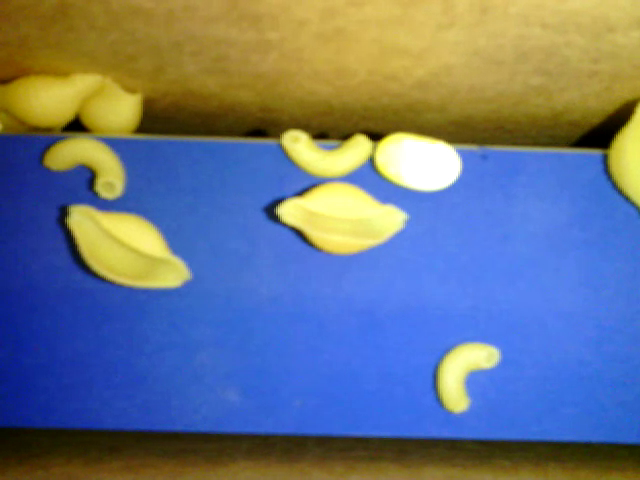elbow: (44, 133, 125, 198), (433, 341, 498, 415), (280, 126, 373, 177)
shell: (63, 201, 195, 292), (276, 183, 412, 259), (1, 72, 103, 126), (604, 100, 639, 218), (80, 77, 141, 134), (1, 103, 69, 135)
